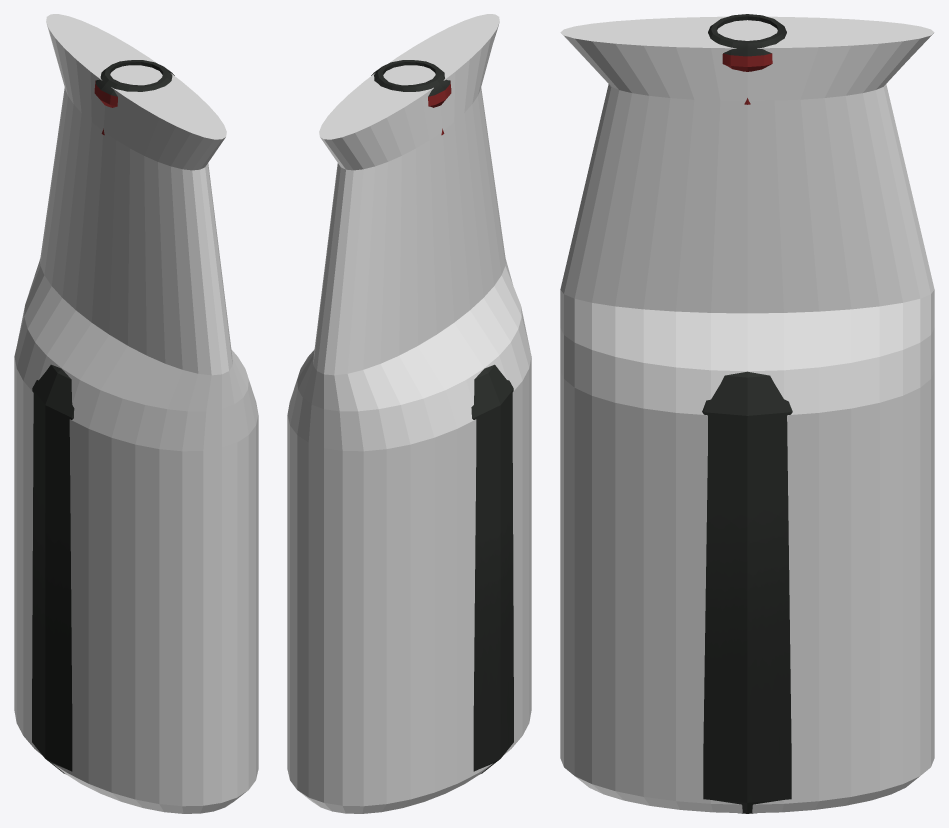
The model's file is flaske.fbx.
3 renders of one model, left to right at view 1: azimuth 30°, elevation 25°; view 2: azimuth 150°, elevation 25°; view 3: azimuth 270°, elevation 25°, orthographic. The views are drawn at different scales.
Parts seen in each view (by area): view 1: Cylinder, Cylinder.001; view 2: Cylinder, Cylinder.001; view 3: Cylinder, Cylinder.001.
Boxes of the visible parts, x1=… form: Cylinder: x1=14, y1=14, x2=258, y2=813; Cylinder.001: x1=32, y1=60, x2=174, y2=773; Cylinder: x1=287, y1=14, x2=531, y2=813; Cylinder.001: x1=371, y1=60, x2=513, y2=773; Cylinder: x1=560, y1=16, x2=934, y2=812; Cylinder.001: x1=702, y1=14, x2=792, y2=813.
Bounding box in the file's own units: 123 × 440 × 200.
